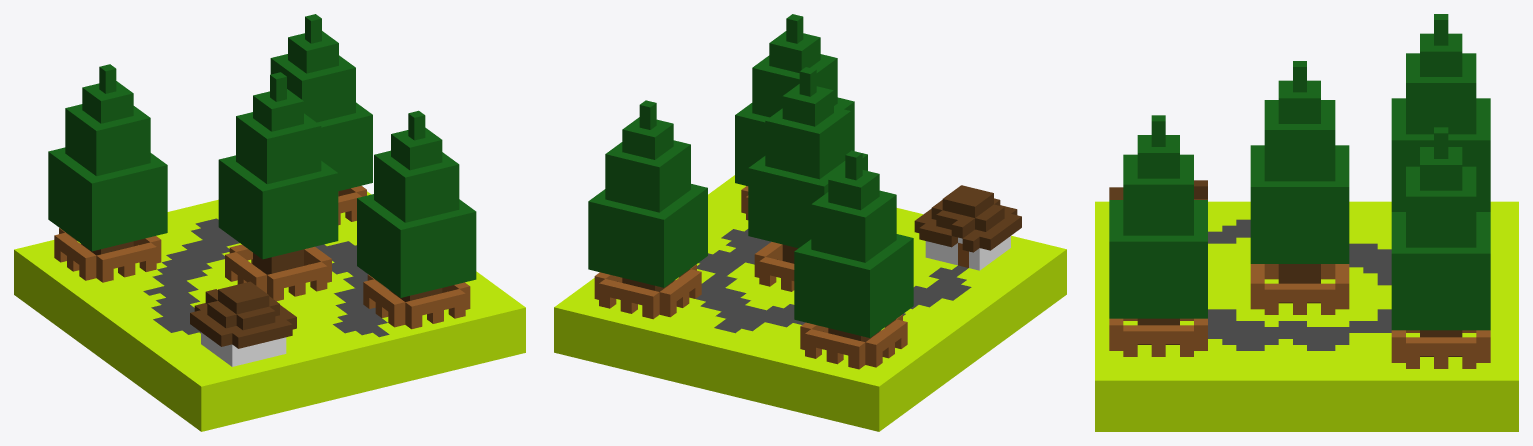
Rendered from LumberMill_1.obj.
The picture shows the model from 3 angles, left to right: view 1: azimuth 30°, elevation 25°; view 2: azimuth 150°, elevation 25°; view 3: azimuth 270°, elevation 25°; orthographic projection. The views are drawn at different scales.
Size of the model in its own units: 3 by 2.2 by 3.
